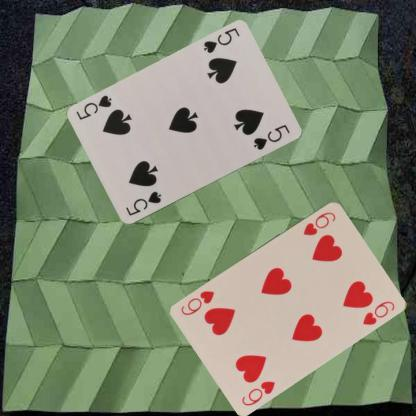5s: (200, 25, 241, 55), (122, 188, 162, 218)
6h: (300, 208, 338, 237), (239, 378, 277, 407)
